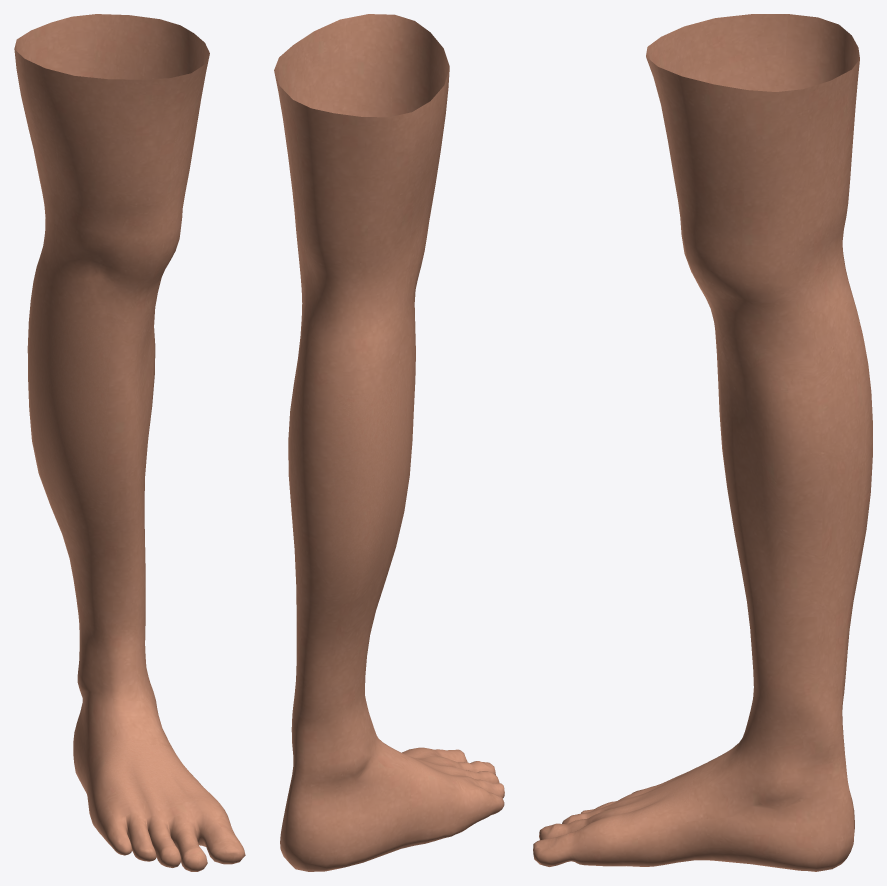
The model's file is bacak.glb.
3 views of the same model, side by side, from view 1: azimuth 30°, elevation 25°; view 2: azimuth 150°, elevation 25°; view 3: azimuth 270°, elevation 25° (orthographic). The views are drawn at different scales.
Visible parts, largest first — view 1: leg; view 2: leg; view 3: leg.
Part boxes in pixels (x1,y1,x2,y2): leg: (14, 14, 245, 871); leg: (274, 14, 504, 871); leg: (533, 14, 872, 871).
Size of the model in its own units: 1.14 by 5.46 by 2.07.
3 materials, 3 textured.
